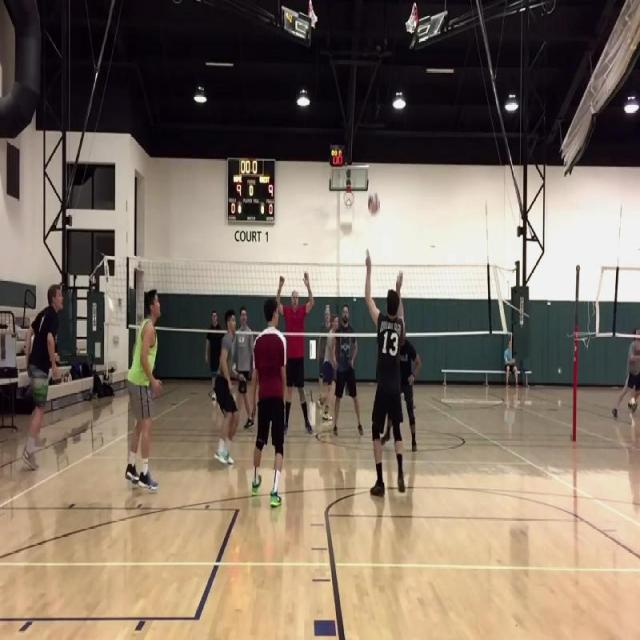volleyball: (368, 191, 380, 215)
